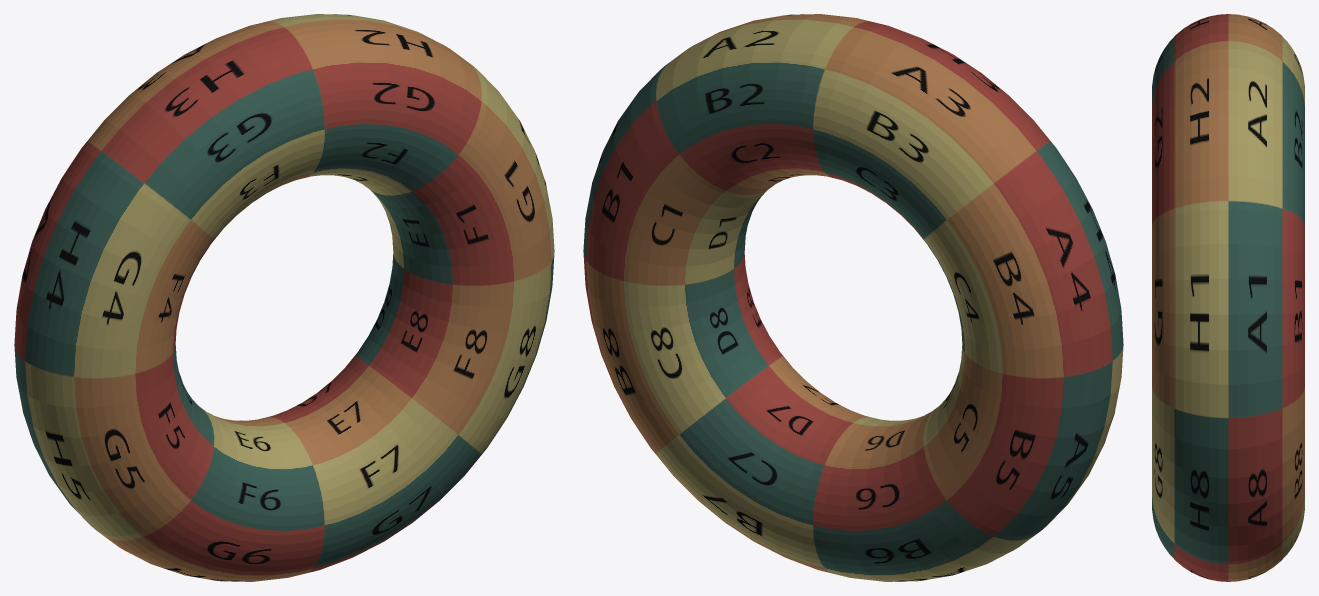
Rendered from texture_torus_R17_r22.glb.
The picture shows the model from 3 angles, left to right: view 1: azimuth 30°, elevation 25°; view 2: azimuth 150°, elevation 25°; view 3: azimuth 270°, elevation 25°; orthographic projection. The views are drawn at different scales.
Visible parts, largest first — view 1: world; view 2: world; view 3: world.
Boxes of the visible parts, x1=… form: world: x1=14, y1=14, x2=554, y2=581; world: x1=583, y1=14, x2=1123, y2=581; world: x1=1152, y1=14, x2=1304, y2=581.
Bounding box in the file's own units: 29.2 × 29.14 × 7.85.
1 material, 1 textured.
